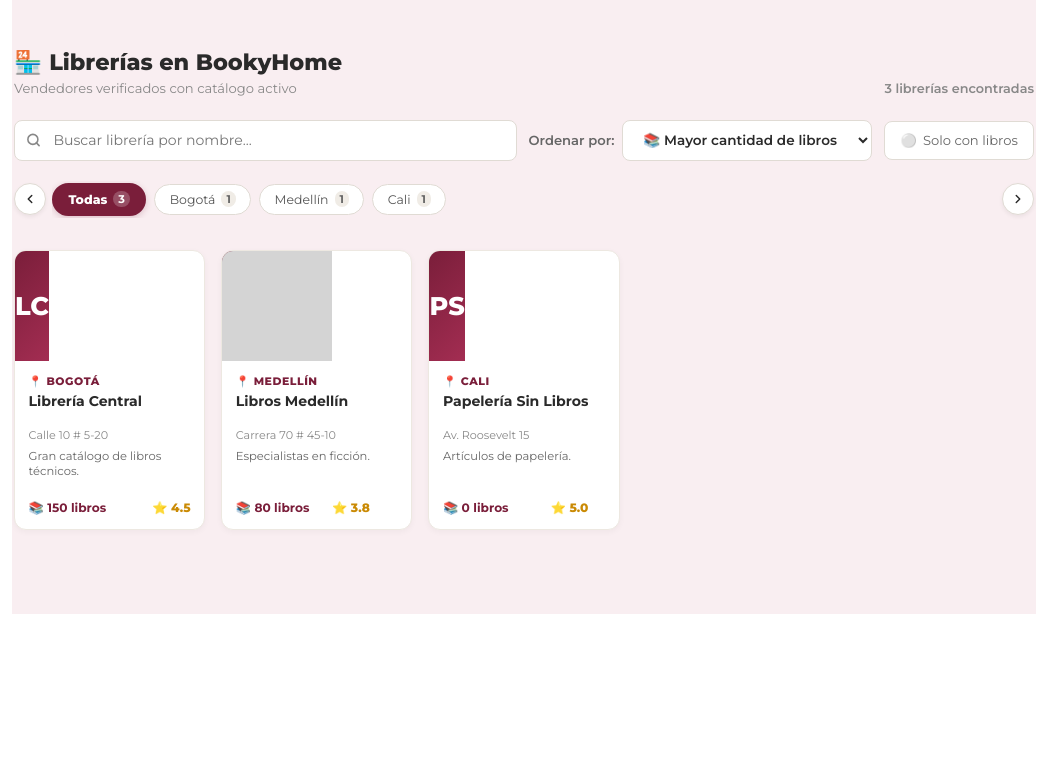
Test: Librerias — búsqueda por nombre › filtra tiendas según el texto buscado
Expected: the heading "Librería Central" is shown, [29,392,142,410]
Type "central" into the field with placeholder "Buscar librería por nombre...". click: (265, 140)
box: [14,120,516,161]
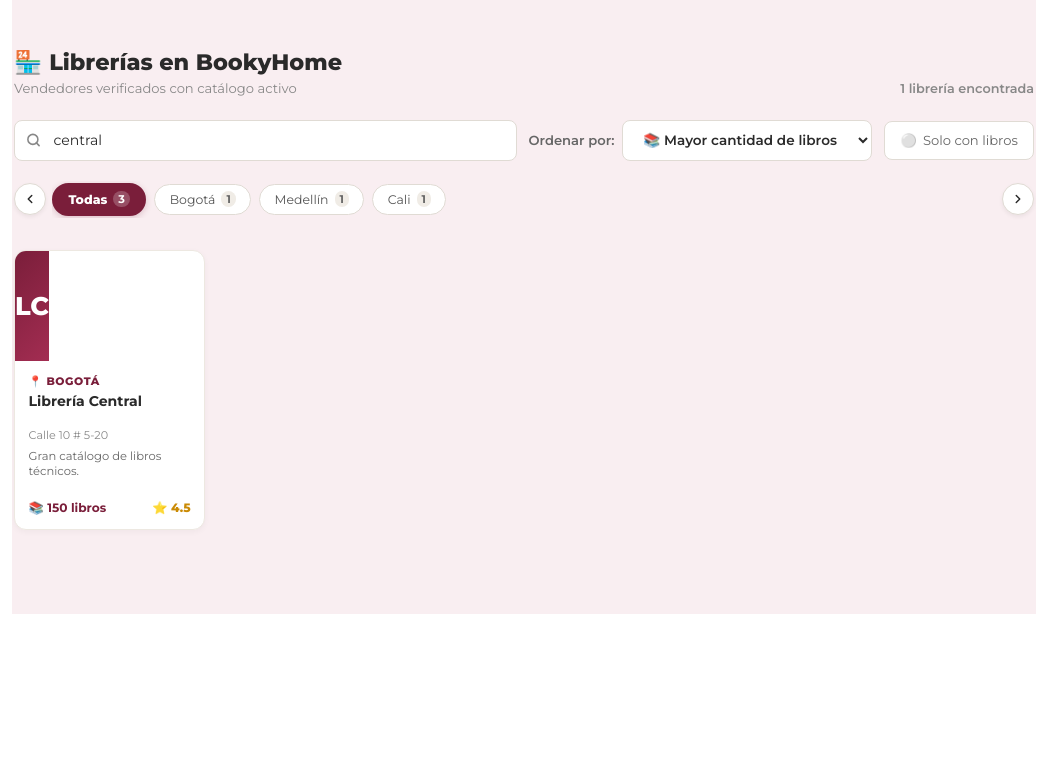
Expected: the heading "Librería Central" is shown, [29,392,142,410]
Expected: the button "Libros Medellín" is gone
